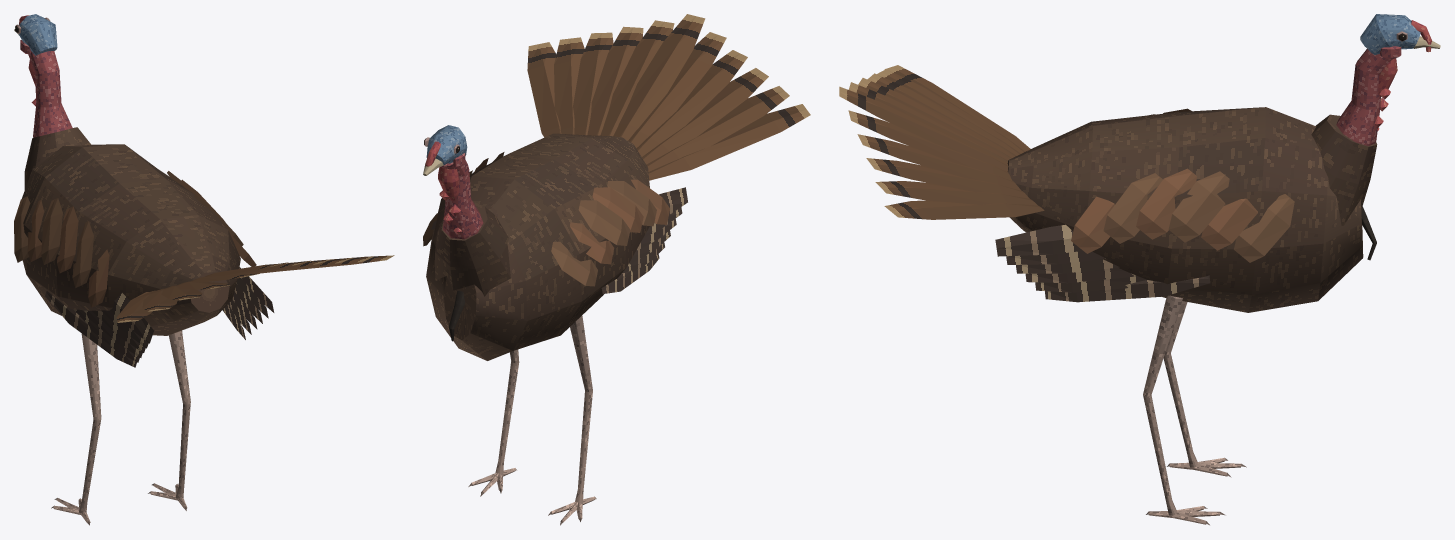
File: mon_turkey.glb
The picture shows the model from 3 angles, left to right: view 1: azimuth 30°, elevation 25°; view 2: azimuth 150°, elevation 25°; view 3: azimuth 270°, elevation 25°; orthographic projection. The views are drawn at different scales.
Parts seen in each view (by area): view 1: mon_turkey_mesh; view 2: mon_turkey_mesh; view 3: mon_turkey_mesh.
Part boxes in pixels (box(x1,y1,x2,y2)): mon_turkey_mesh: box(14, 14, 394, 525); mon_turkey_mesh: box(423, 14, 810, 525); mon_turkey_mesh: box(839, 14, 1440, 525).
Size of the model in its own units: 0.5988 by 0.8727 by 0.998.
1 material, 1 textured.
